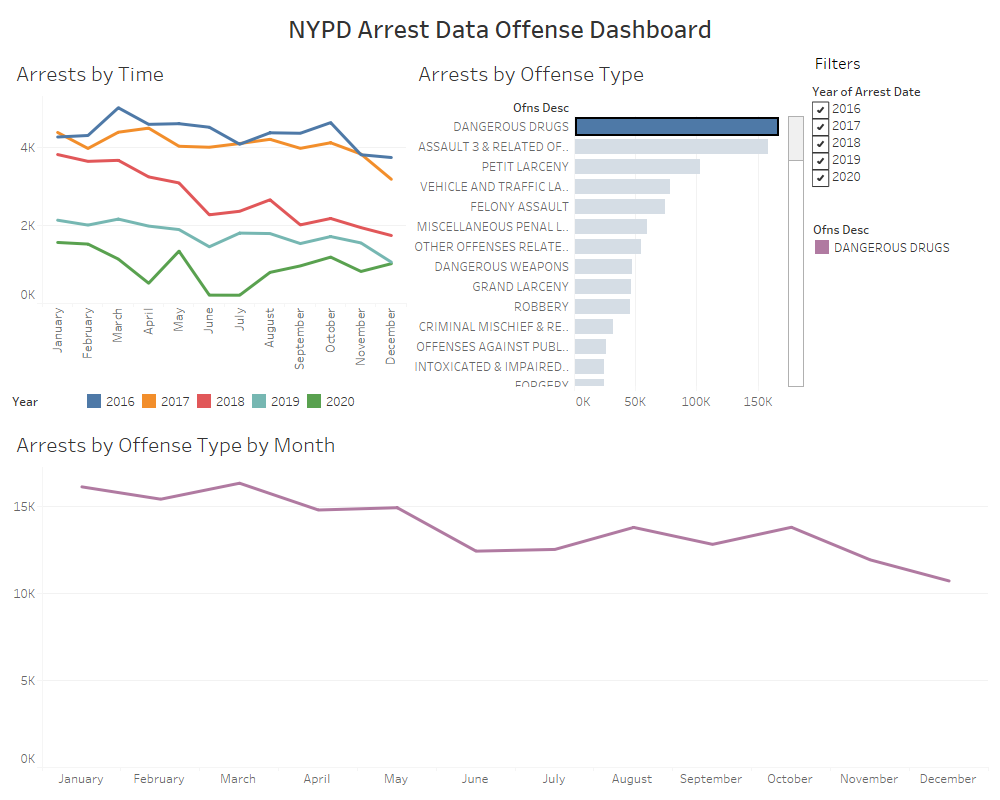

What the dashboard file says about the page in this screenshot:
{"tool":"tableau","page":{"name":"NYPD Arrest Data Offense Dashboard","canvas":[1000,800],"ordinal":1},"visuals":[{"type":"title","box":[8,8,984,41]},{"type":"worksheet","title":"Arrests by Time","mark":"Line","rows":["ARREST_DATE"],"cols":["ARREST_DATE"],"box":[8,49,402,338.4]},{"type":"worksheet","title":"Arrests by Offense Type","mark":"Automatic","rows":["OFNS_DESC"],"cols":["ARREST_DATE"],"box":[410,49,398,371.5]},{"type":"text","box":[808,49,184,29]},{"type":"filter","title":"Arrests by Offense Type by Month","param":"[federated.0u0g2jr0y9b0lh1fggo9v036ljvq].[yr:ARREST_DATE:ok]","box":[808,78,184,147]},{"type":"legend","title":"Arrests by Offense Type by Month","param":"[federated.0u0g2jr0y9b0lh1fggo9v036ljvq].[none:OFNS_DESC:nk]","box":[808,225,184,195.5]},{"type":"legend","title":"Arrests by Time","param":"[federated.0u0g2jr0y9b0lh1fggo9v036ljvq].[yr:ARREST_DATE:ok]","box":[8,387.4,402,33]},{"type":"worksheet","title":"Arrests by Offense Type by Month","mark":"Automatic","rows":["ARREST_DATE"],"cols":["ARREST_DATE"],"box":[8,420.5,984,371.5]}]}

Visuals, with their boxes in screenshot pixels (x1, y1, x2, y2), scaled from the page's 1000x800 canvas onto the 1000x800 screenshot:
title: detection(8, 8, 992, 49)
"Arrests by Time" worksheet (Line marks): detection(8, 49, 410, 387)
"Arrests by Offense Type" worksheet: detection(410, 49, 808, 420)
text: detection(808, 49, 992, 78)
"Arrests by Offense Type by Month" filter: detection(808, 78, 992, 225)
"Arrests by Offense Type by Month" legend: detection(808, 225, 992, 420)
"Arrests by Time" legend: detection(8, 387, 410, 420)
"Arrests by Offense Type by Month" worksheet: detection(8, 420, 992, 792)
